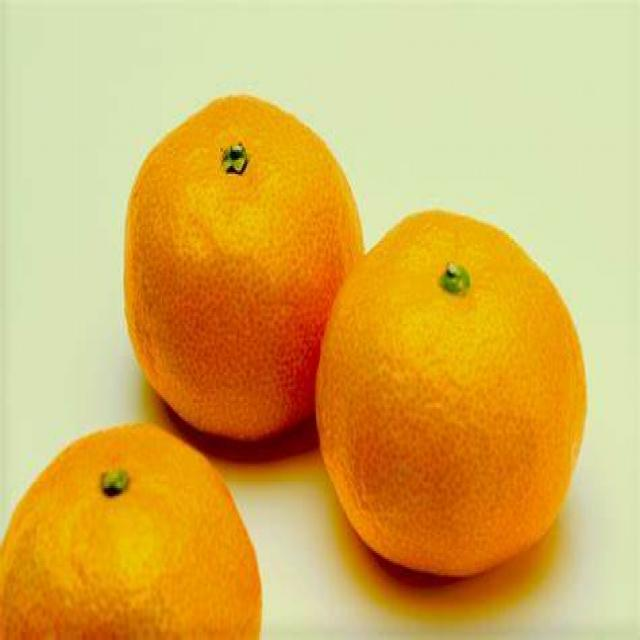Orange: (318, 211, 589, 581), (122, 90, 367, 432), (0, 425, 263, 639)
